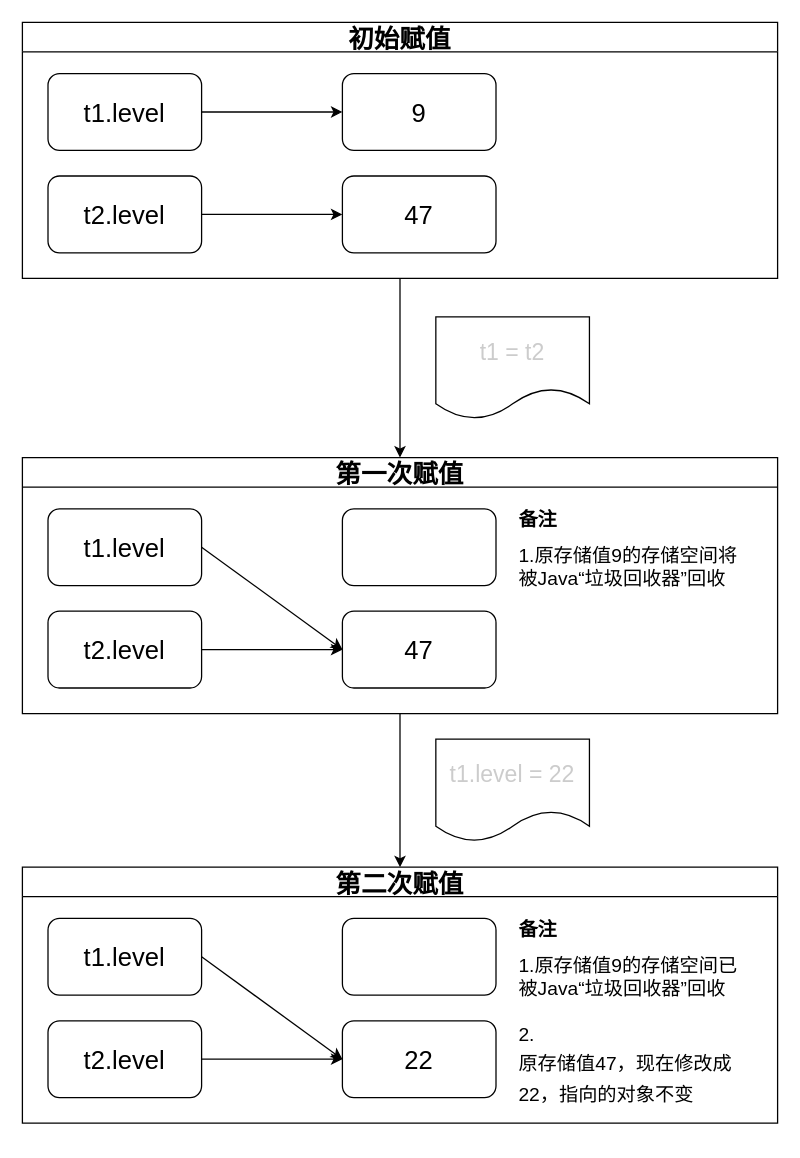
The diagram is 800 pixels wide and 1158 high, and some of its shapes have lost their labels. The shapes that lost their labels are listed below. From the top down, each one's centre as x and y in pixels, then its label:
the point at 418,547: 9（将回收）
the point at 418,956: 9（已回收）
